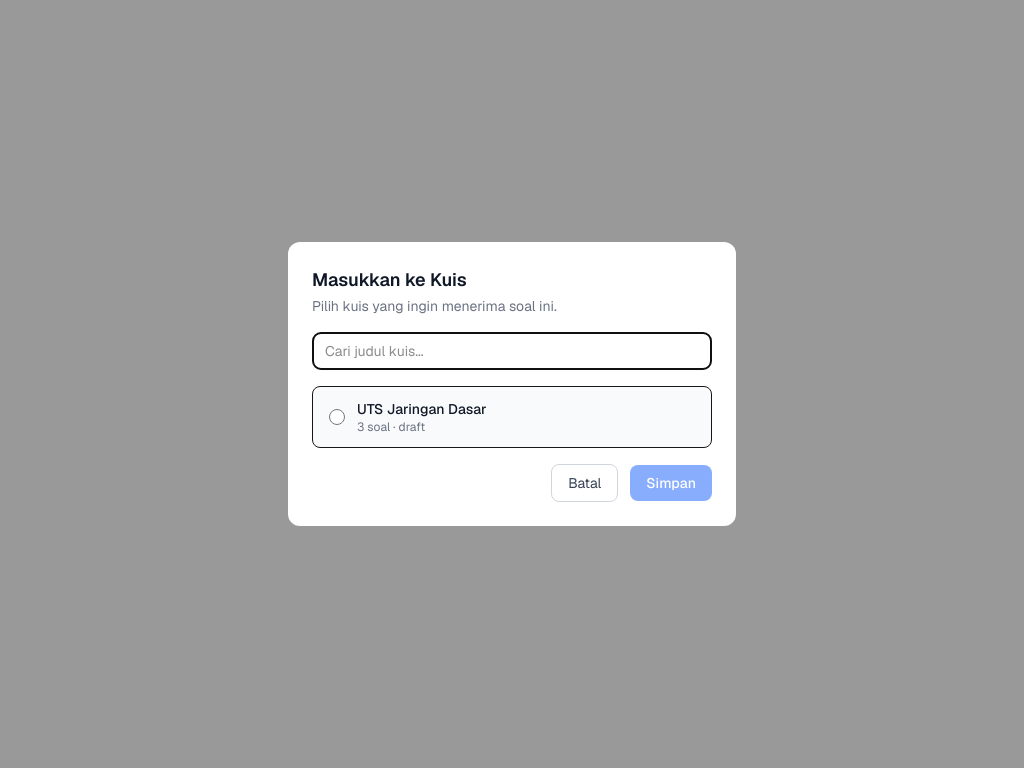
Test case: InsertIntoQuizDialog › disables confirm until a quiz is selected
Expected: the button with test id "bank-insert-confirm" is disabled, [630,465,712,501]
Step 1. Click the label with test id "bank-insert-option-10" → [408, 418], box [329,400,487,435]
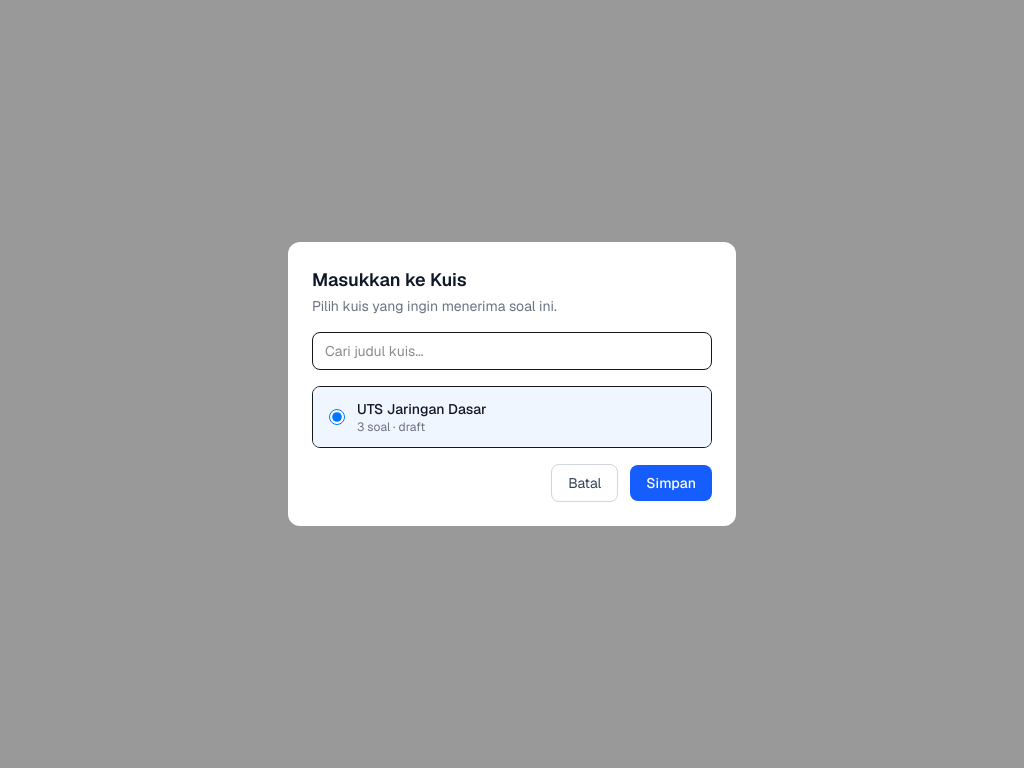
Expected: the button with test id "bank-insert-confirm" is enabled, [630,465,712,501]
